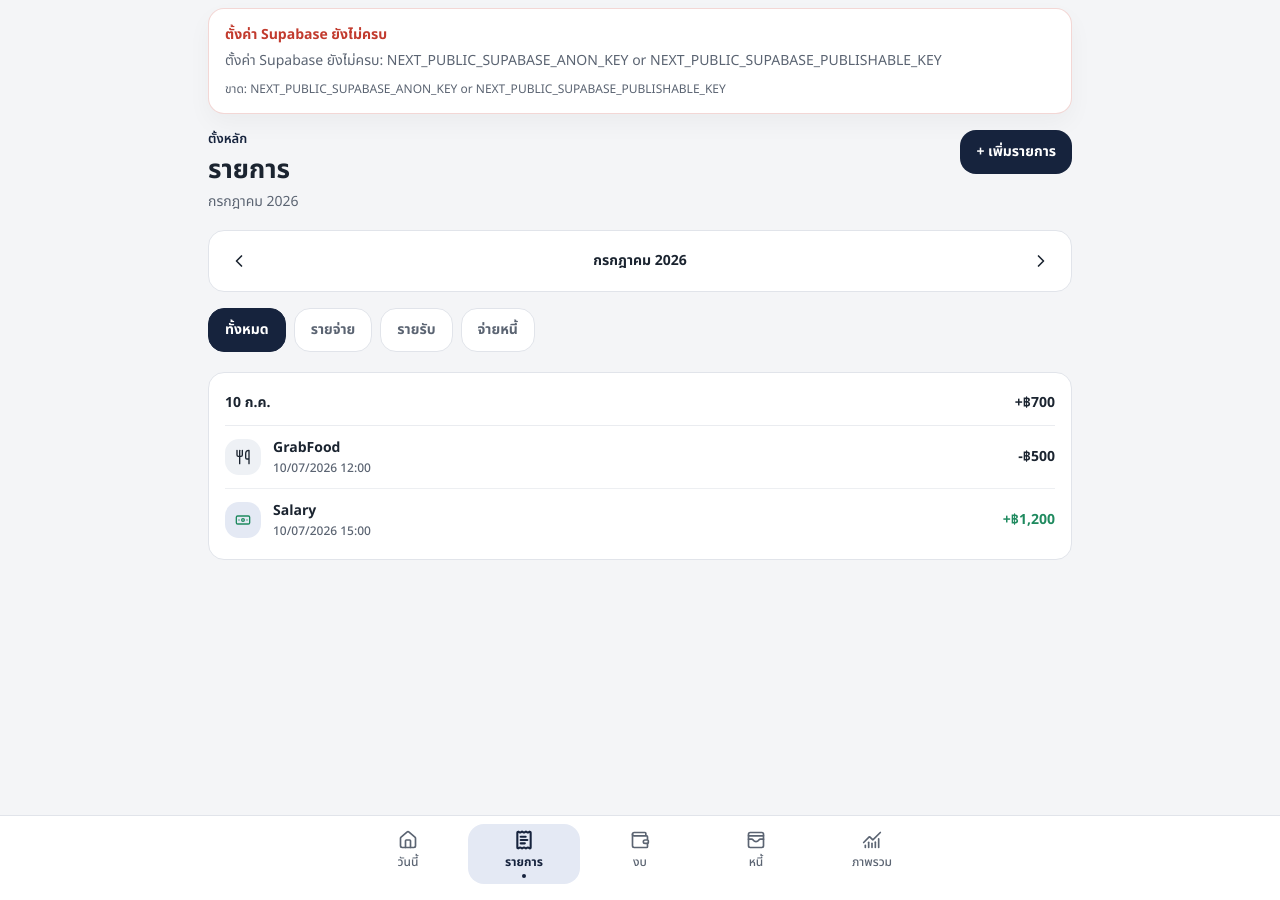
Test: TransactionsClient filter transition state › retains display content during filter change and applies pending styling without flashing empty states
This screenshot has width=1280, height=900.
Trigger filter change to "expense"
Click the button "รายจ่าย": [333, 330] box x1=294 y1=308 x2=372 y2=352
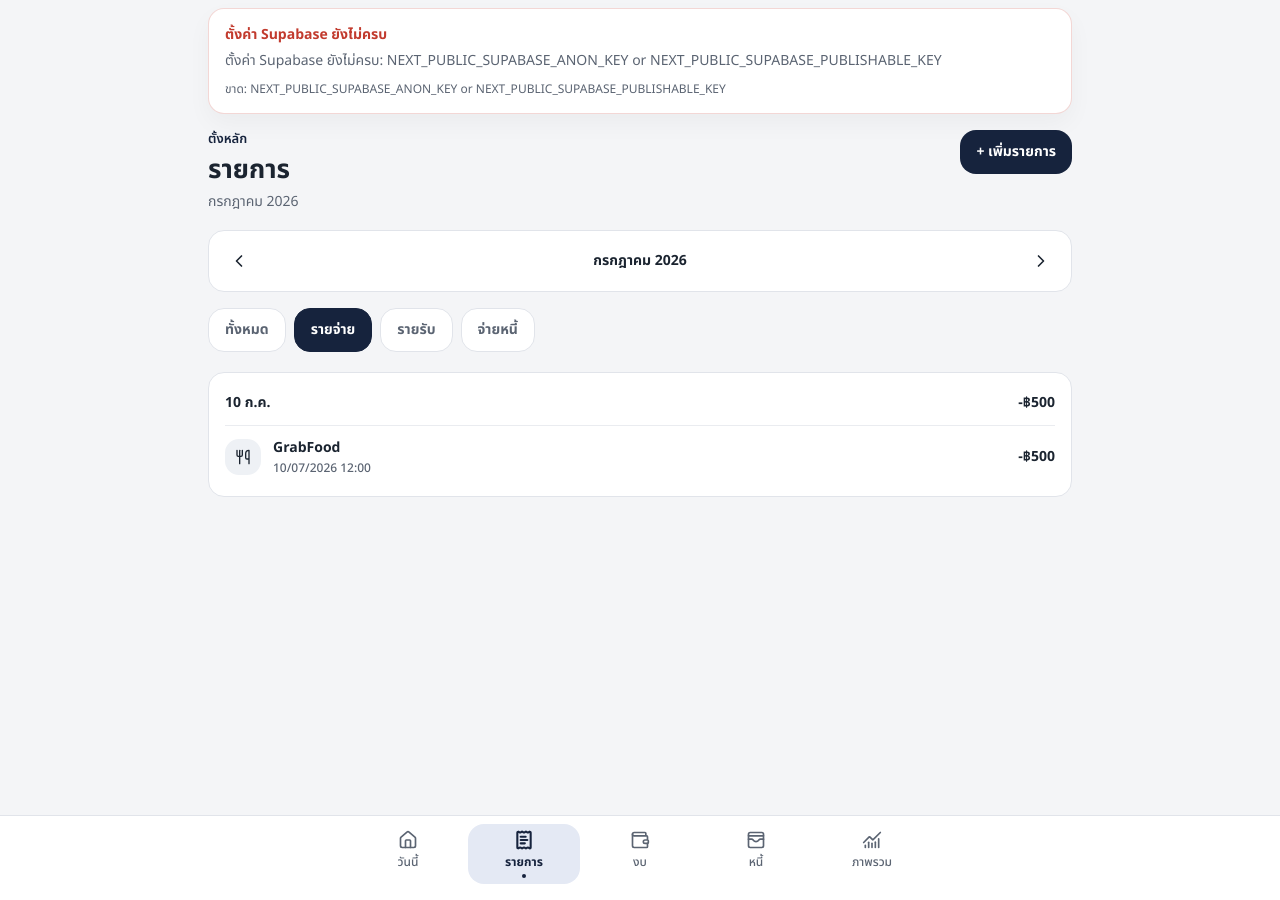
Expected: the text "GrabFood" is shown, x1=273 y1=437 x2=340 y2=458
Now the text "Salary" is gone
